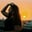face: (3, 3, 22, 20)
